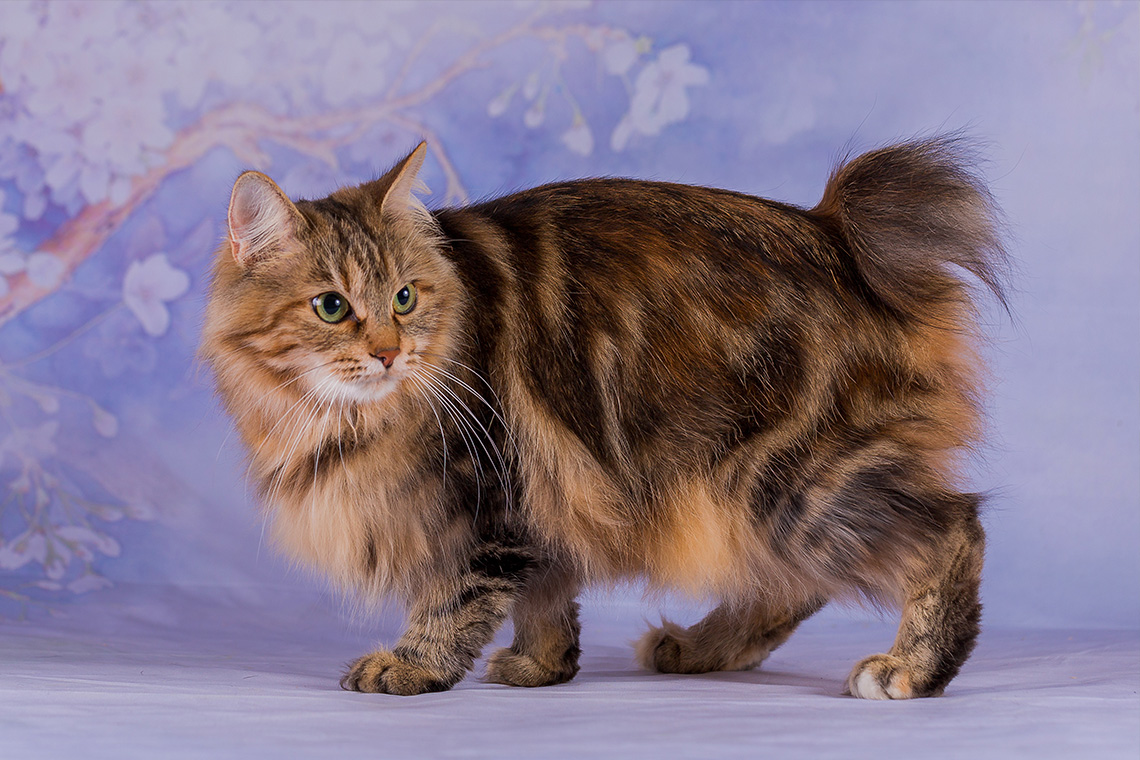cat: (177, 127, 1057, 712)
